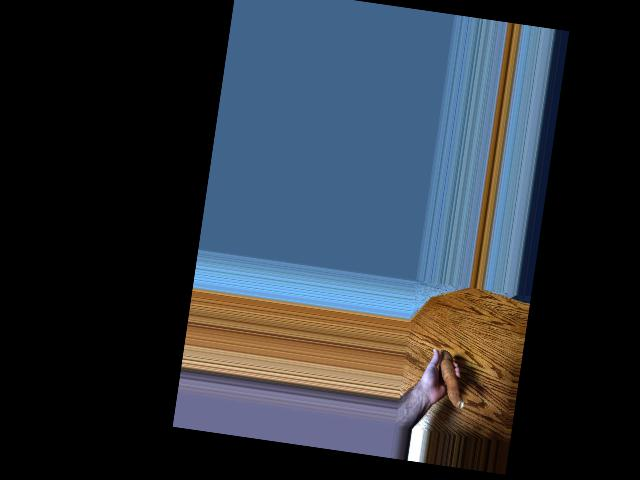sweet_potato: (433, 347, 470, 409)
